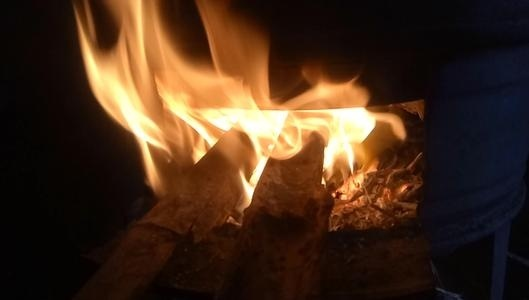fire: (73, 0, 377, 202)
